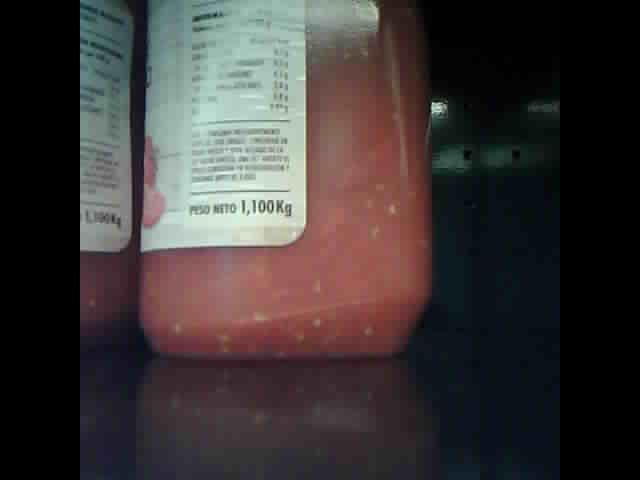tomate: (139, 2, 431, 357), (82, 2, 145, 354)
